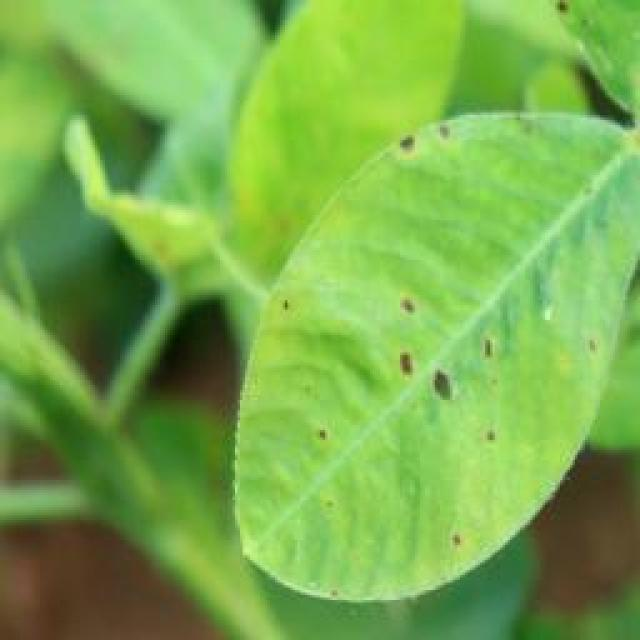Sigatoka: (363, 275, 508, 412), (387, 112, 480, 176), (467, 412, 522, 458), (568, 320, 608, 365), (547, 0, 582, 40), (299, 420, 334, 458), (268, 285, 301, 322), (443, 512, 465, 552)
